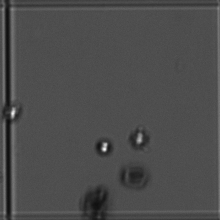Dead Cell: (78, 183, 111, 217), (119, 164, 150, 193)
Living Cell: (3, 100, 28, 124), (131, 123, 151, 149), (93, 132, 113, 157)
